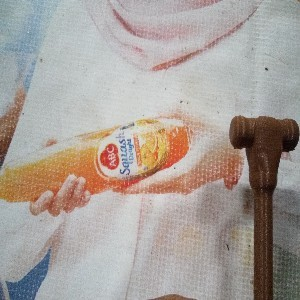palu: (227, 114, 300, 300)
